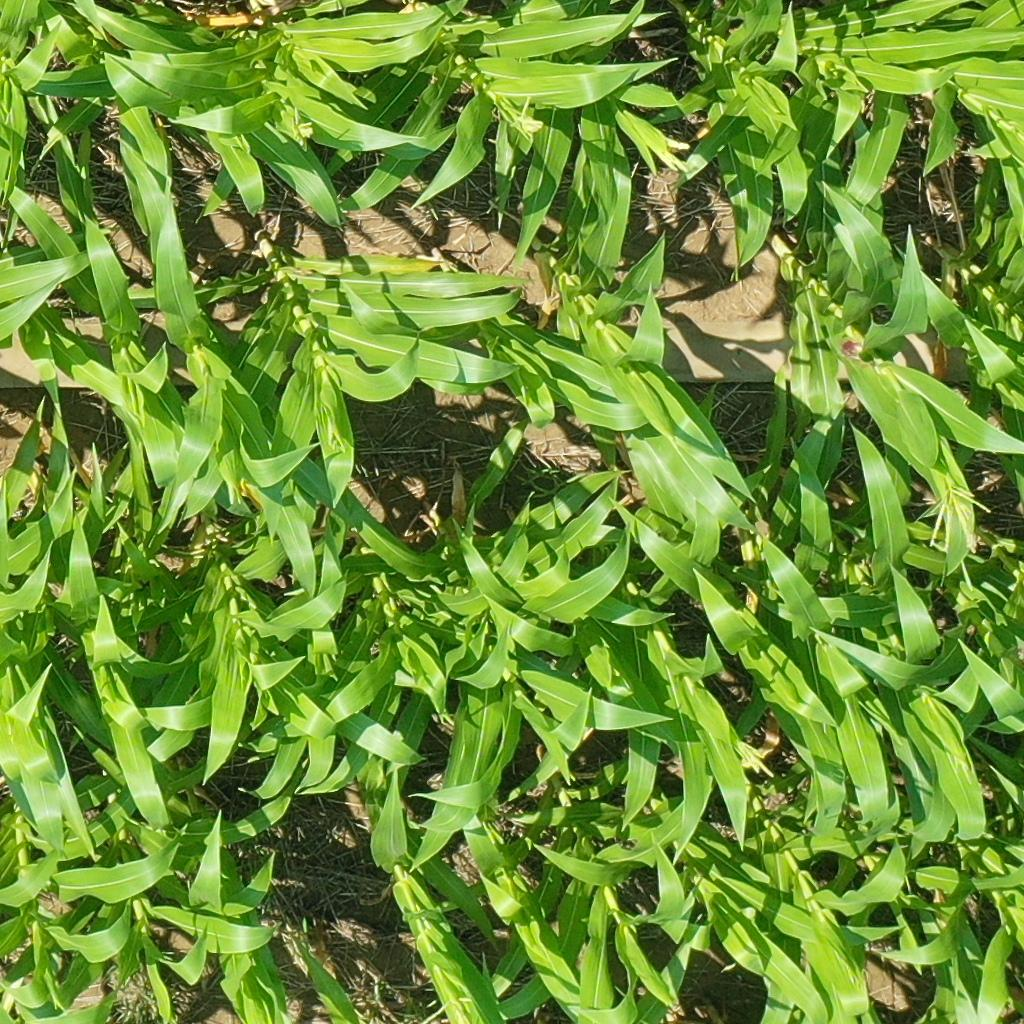Tassel: (920, 480, 993, 554), (419, 992, 478, 1024), (733, 737, 776, 778), (508, 94, 547, 136), (657, 138, 692, 173), (324, 422, 349, 453), (293, 110, 314, 142), (952, 755, 974, 783)
